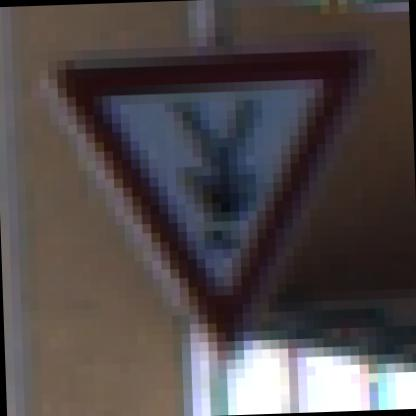crosswalk: (38, 16, 392, 360)
